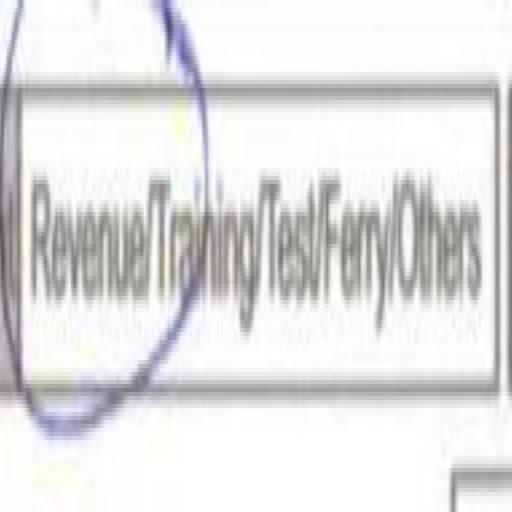check: (25, 0, 151, 512)
